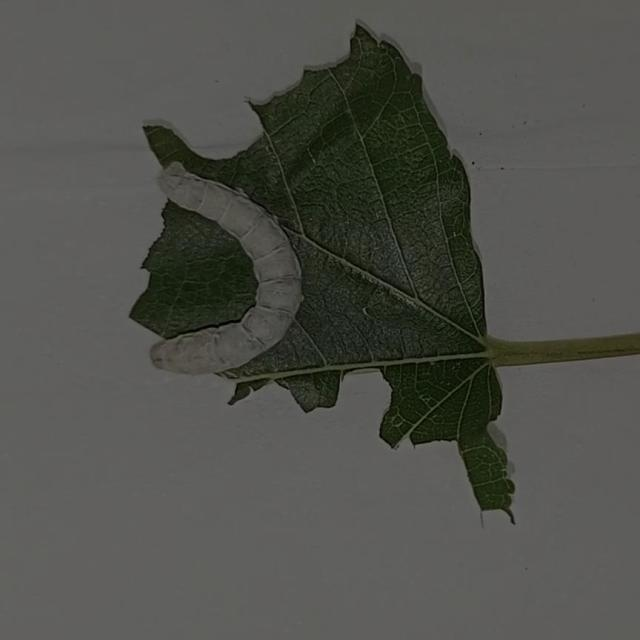Healthy: (143, 154, 309, 380)
